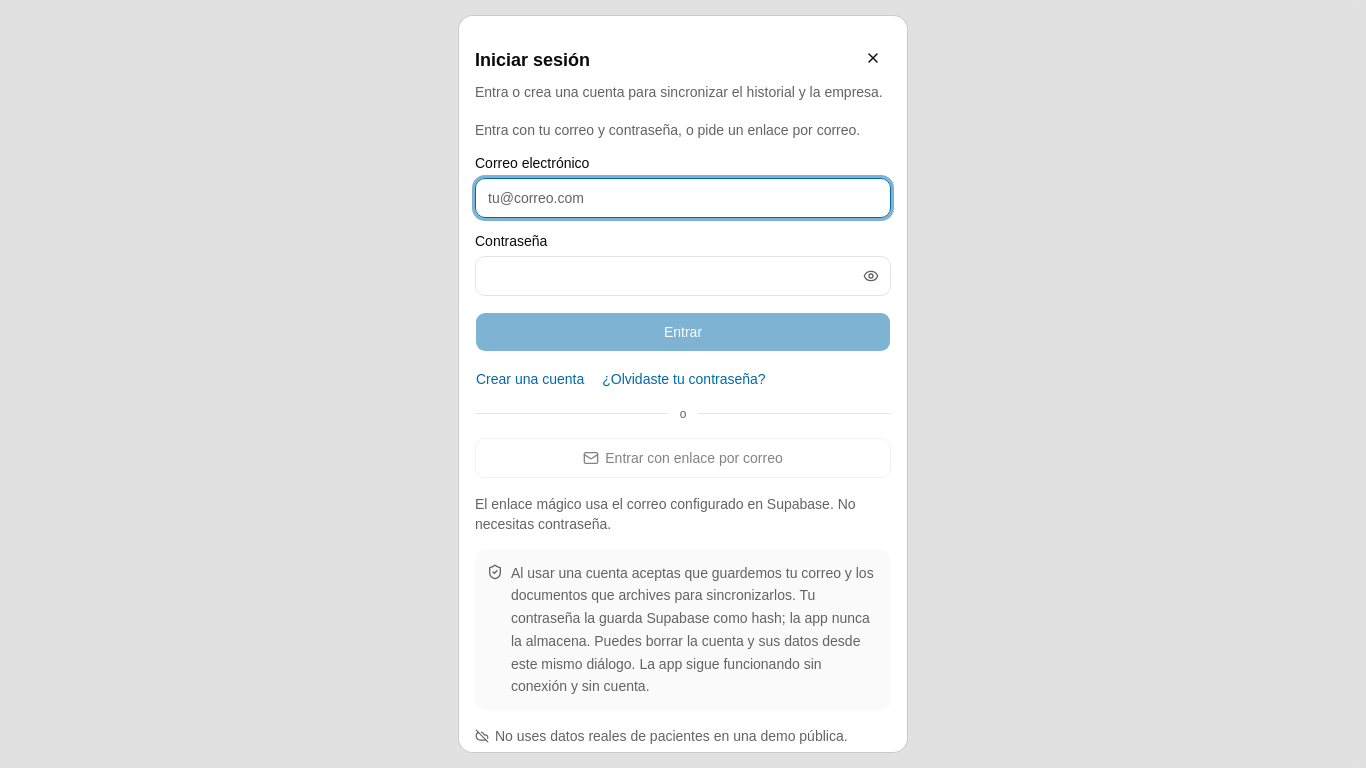
Test: AccountDialog › solicita el enlace de recuperación de contraseña
The width and height of the screenshot is (1366, 768).
Type "ana@example.com" into the field labelled "Correo electrónico".
click(683, 198); type("ana@example.com")  # box [475, 178, 891, 218]
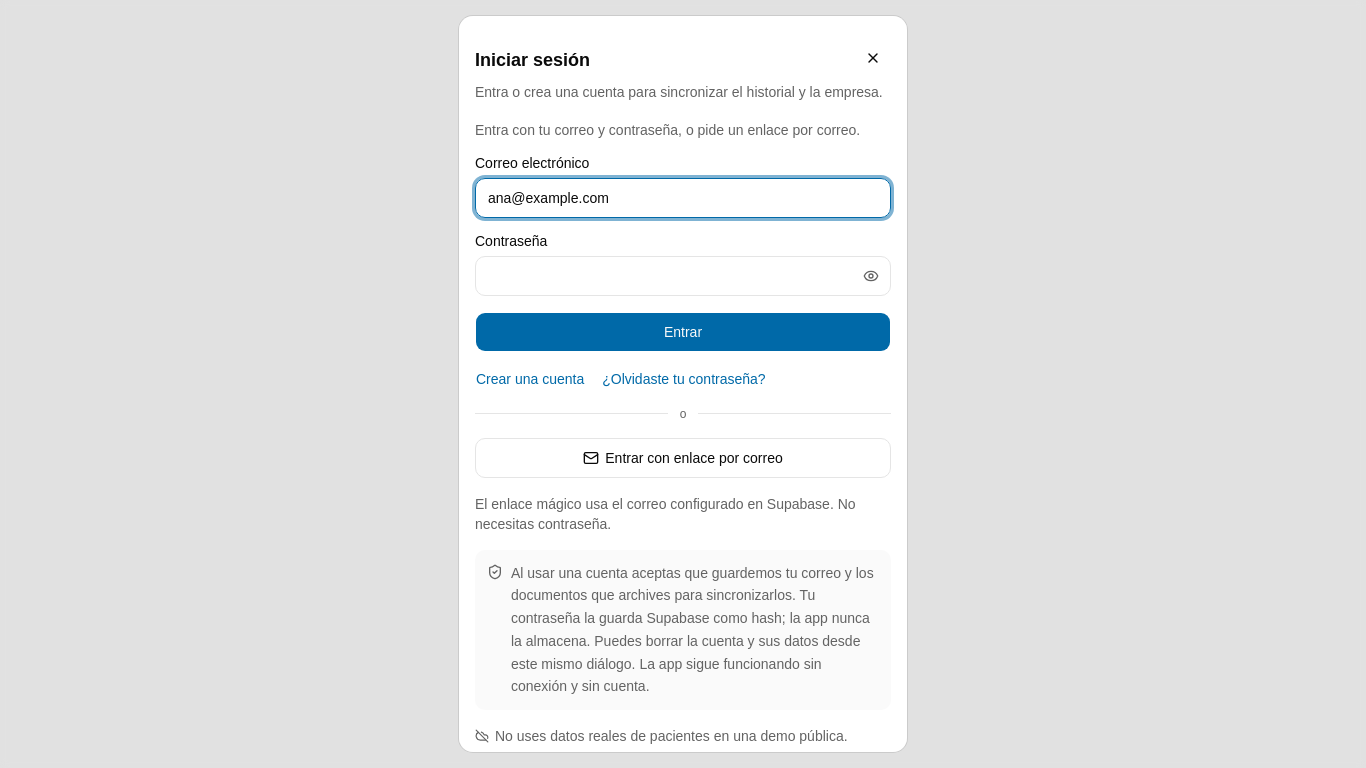
Click the button "¿Olvidaste tu contraseña?".
click(684, 378)  # box [601, 368, 767, 390]
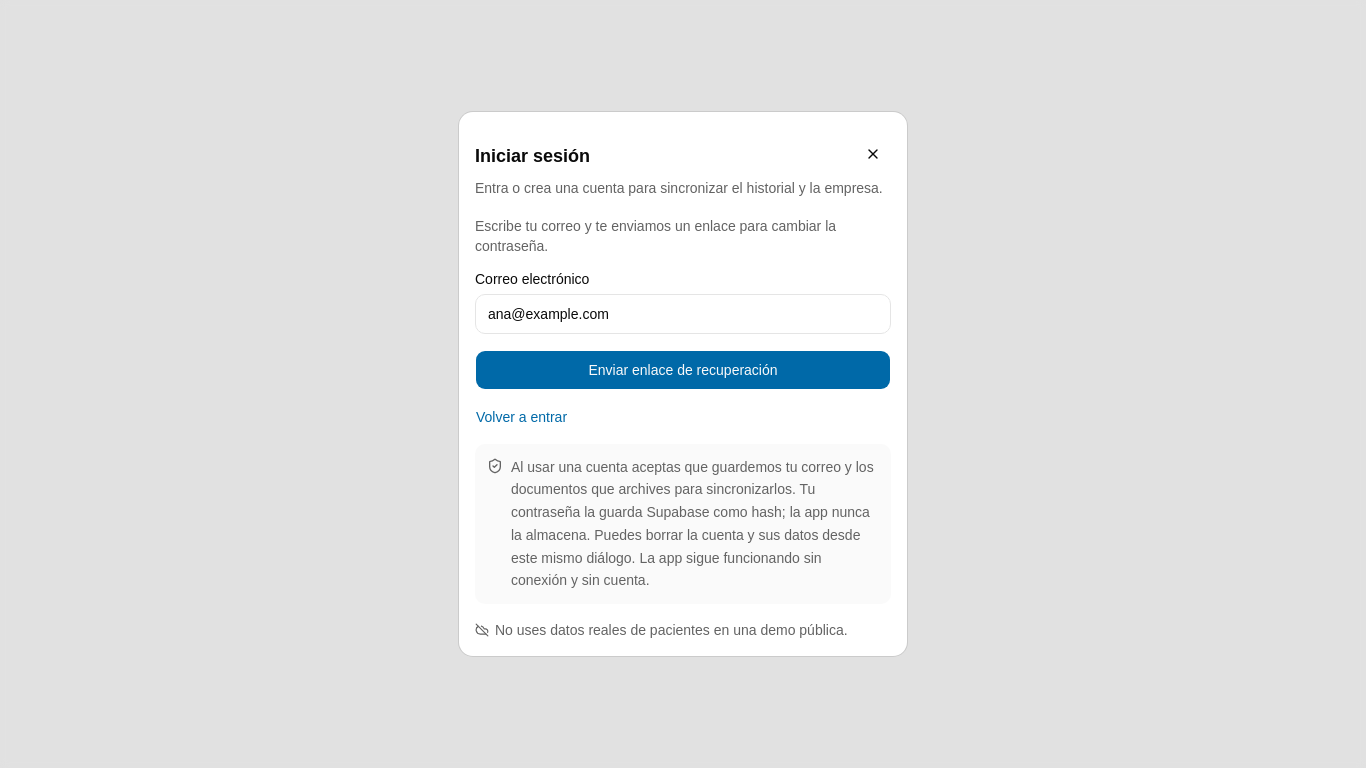
Click the button "Enviar enlace de recuperación".
click(683, 370)  # box [475, 350, 891, 390]
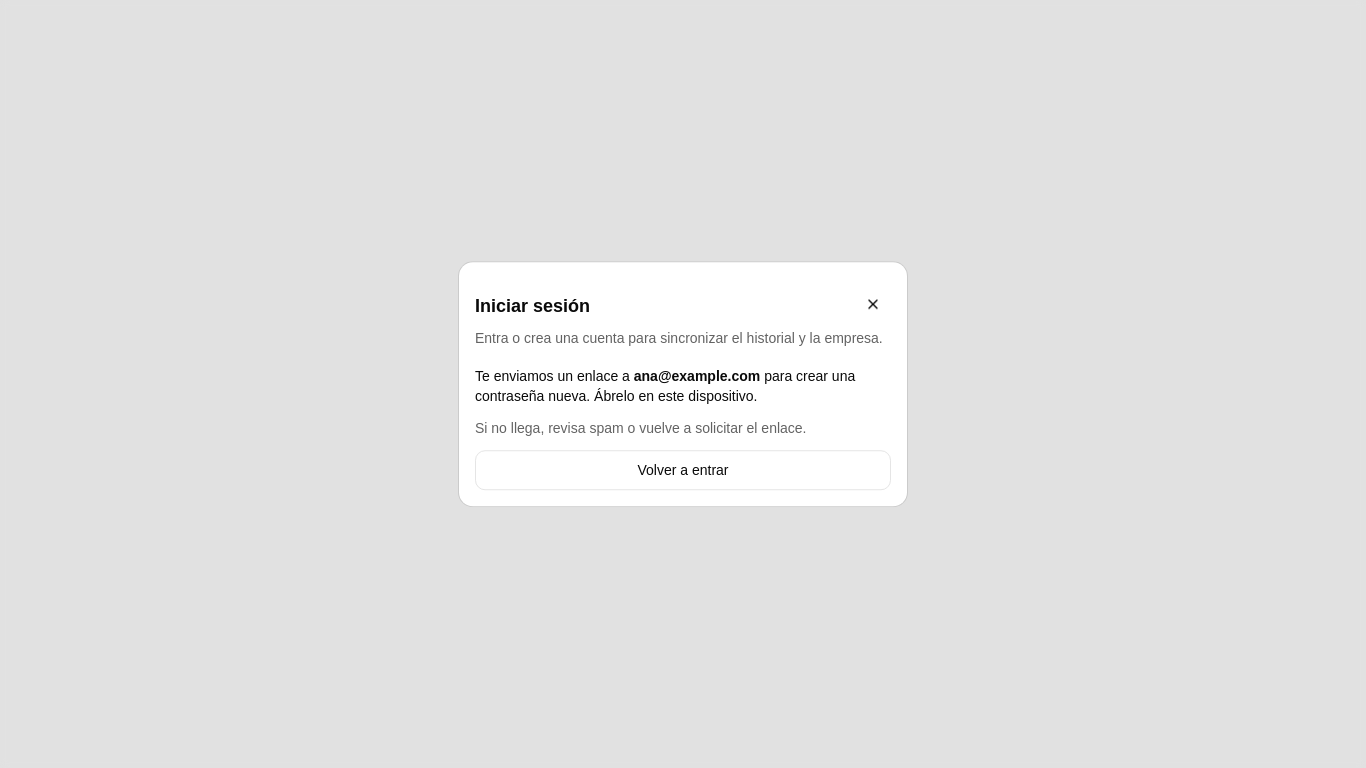
Expected: the text "para crear una contraseña nueva" is shown, [475, 368, 855, 404]
